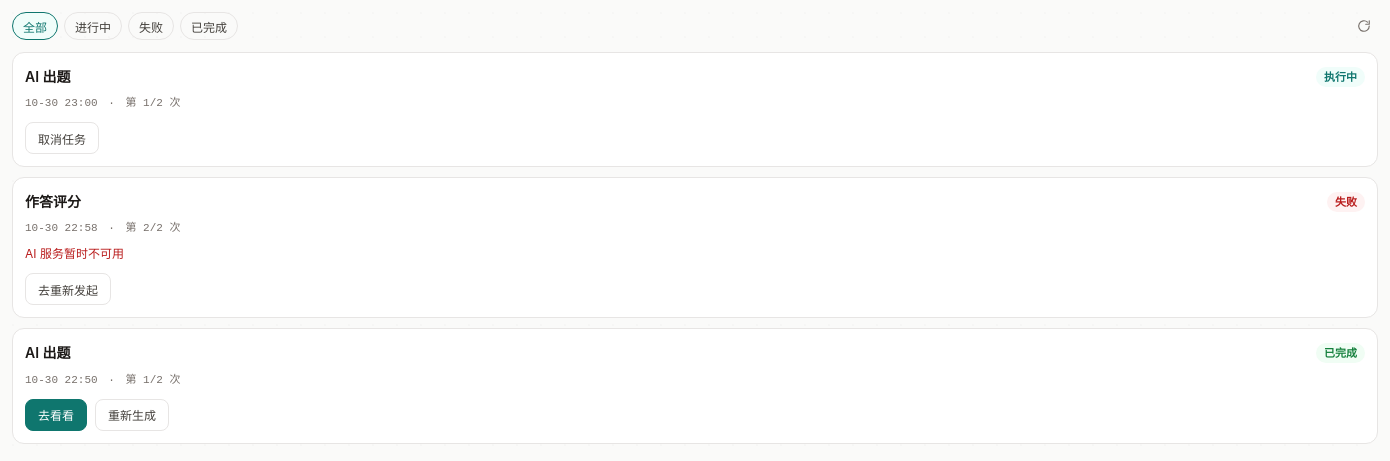
Scenario: MyTasksDrawer › 筛选切到「失败」只保留失败行
Click the tab with class "tk-filter" showing "失败": (151, 26) [128,12,174,40]
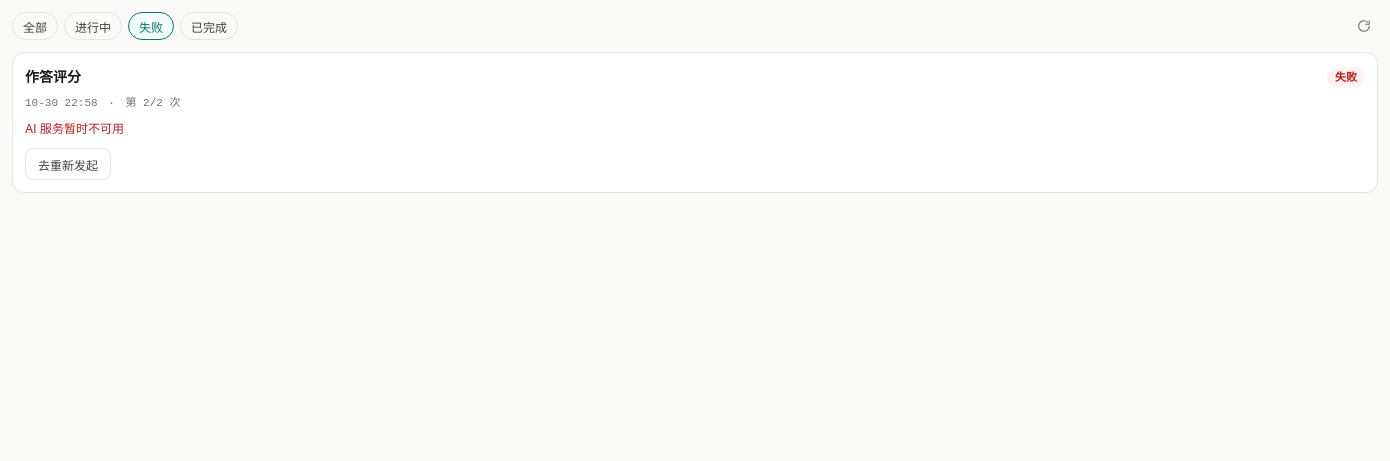
Expected: the number of list items with class "tk-row" is 1, [12,52,1378,193]
